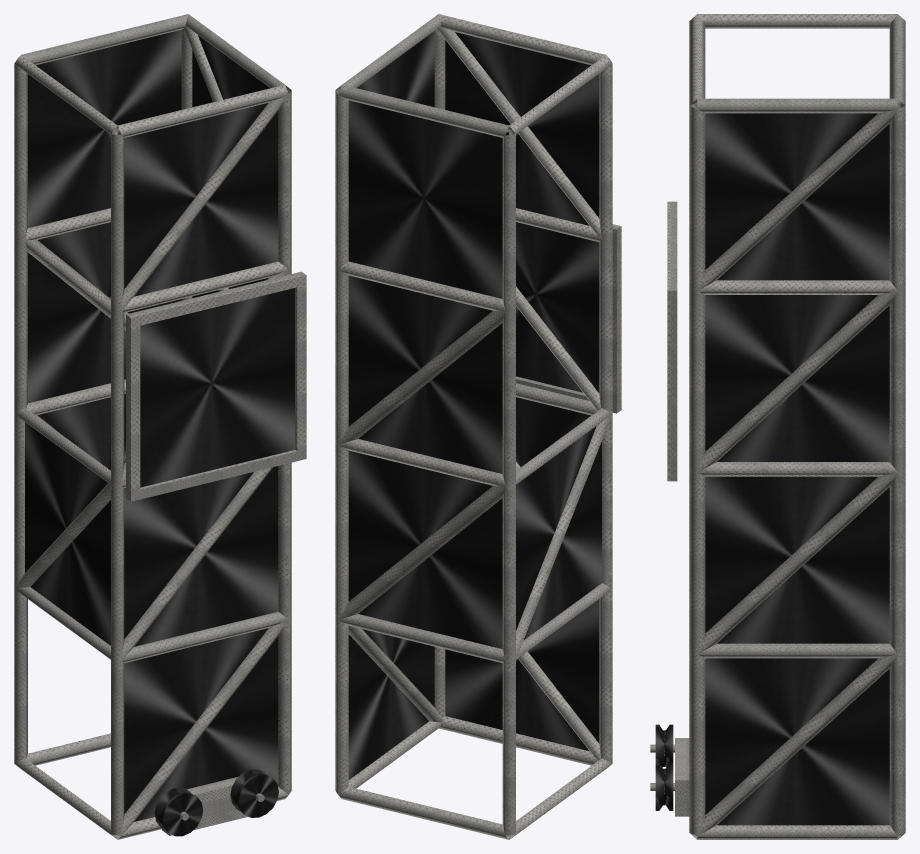
File: LiftCrash.FBX
3 renders of one model, left to right at view 1: azimuth 30°, elevation 25°; view 2: azimuth 150°, elevation 25°; view 3: azimuth 270°, elevation 25°, orthographic. The views are drawn at different scales.
Visible parts, largest first — view 1: Setka, ShahtaKarkas, PlaneEasy, ListRamka, Disk001, Disk; view 2: Setka, ShahtaKarkas, PlaneEasy, ListRamka; view 3: Setka, ShahtaKarkas, ListRamka, Disk001, Disk.
Boxes of the visible parts, x1,y1,x2,y2 form: Setka: (25,29,278,821); ShahtaKarkas: (14,14,291,839); PlaneEasy: (140,288,294,487); ListRamka: (126,271,306,501); Disk001: (230,769,278,817); Disk: (154,787,203,836); Setka: (348,31,601,779); ShahtaKarkas: (335,14,612,839); PlaneEasy: (516,222,599,392); ListRamka: (516,224,621,413); Setka: (705,113,889,825); ShahtaKarkas: (650,14,905,839); ListRamka: (667,201,677,481); Disk001: (655,763,673,810); Disk: (655,724,673,767).
Bounding box in the file's own units: 10.82 × 40.8 × 12.75.
Materials: 2 (2 with a texture image).
